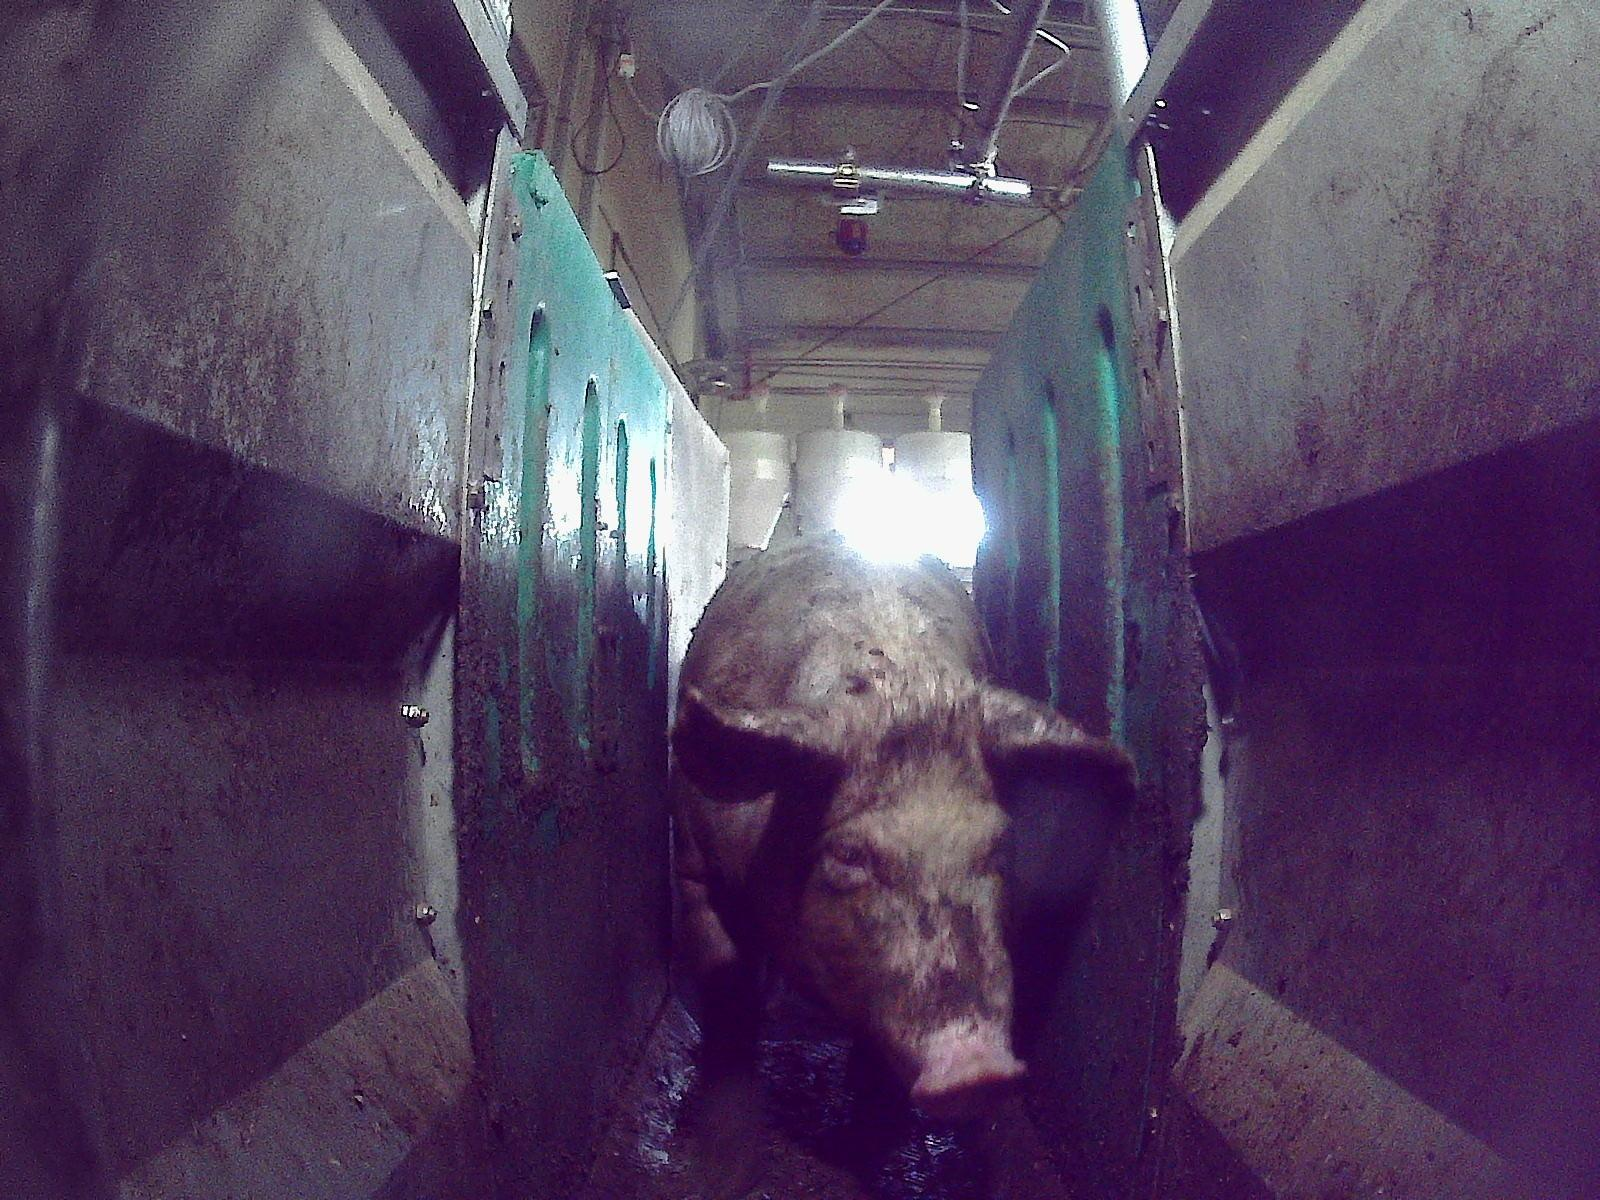Face: (785, 681, 1027, 1122)
